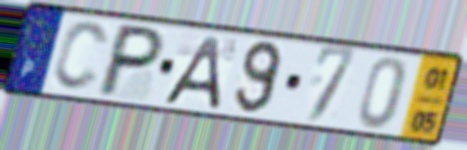0: (354, 54, 410, 132)
7: (298, 44, 359, 129)
9: (233, 39, 285, 118)
A: (159, 34, 222, 112)
C: (50, 18, 112, 94)
P: (93, 21, 169, 100)
